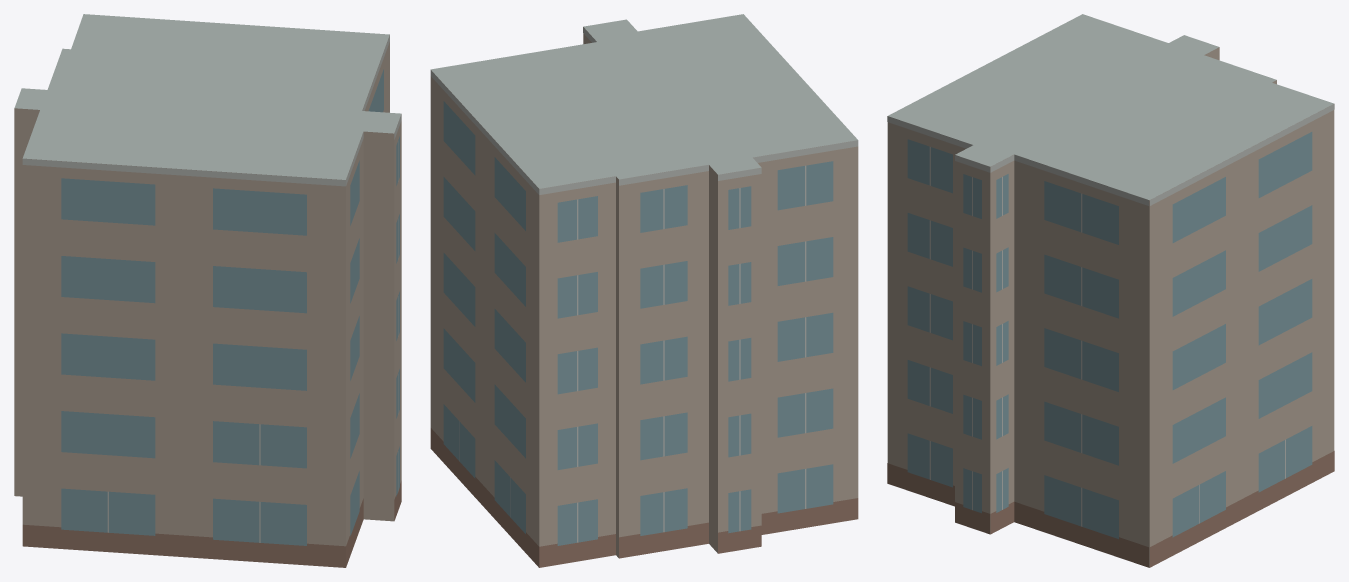
The model's file is survey-upis-32615964.glb.
The picture shows the model from 3 angles, left to right: view 1: azimuth 30°, elevation 25°; view 2: azimuth 150°, elevation 25°; view 3: azimuth 270°, elevation 25°; orthographic projection. The views are drawn at different scales.
Visible parts, largest first — view 1: survey-upis-32615964.tmp; view 2: survey-upis-32615964.tmp; view 3: survey-upis-32615964.tmp.
Boxes of the visible parts, x1,y1,x2,y2 form: survey-upis-32615964.tmp: (14,14,401,567); survey-upis-32615964.tmp: (430,14,858,567); survey-upis-32615964.tmp: (887,14,1334,567).
Size of the model in its own units: 16.03 by 14.75 by 16.26.
